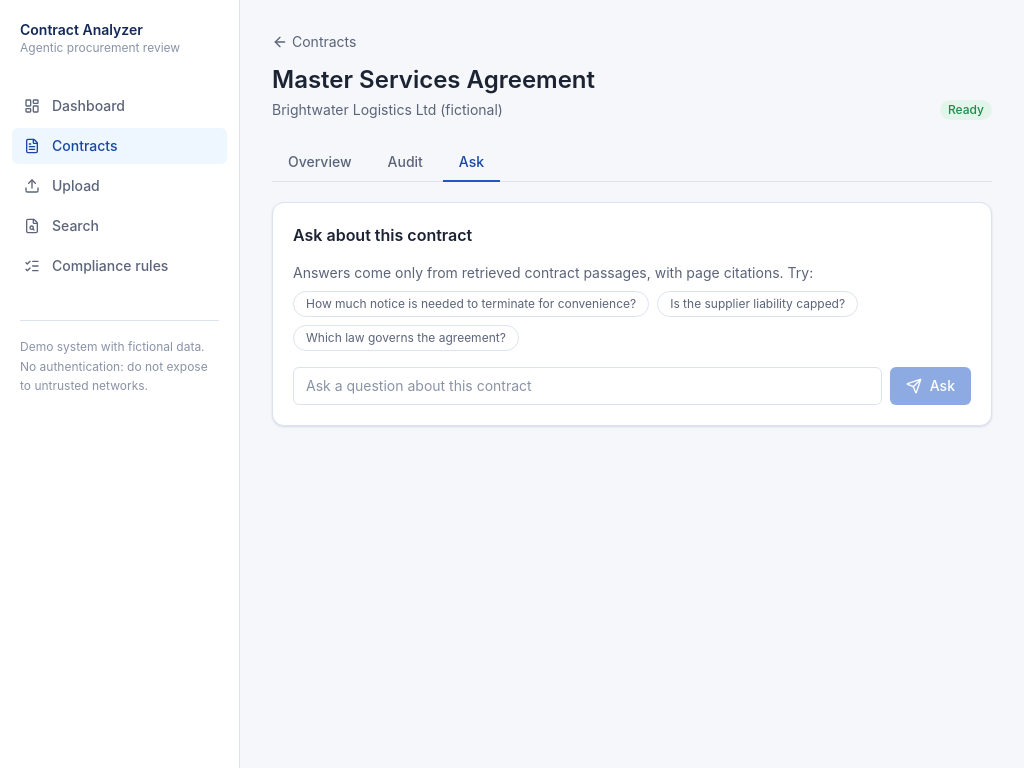
Scenario: Ask tab › shows a clear warning when the answer is not grounded
The image size is (1024, 768).
Step 1. Type "What colour is the logo?" into the field labelled "question" → (587, 386), box x1=293 y1=367 x2=882 y2=405
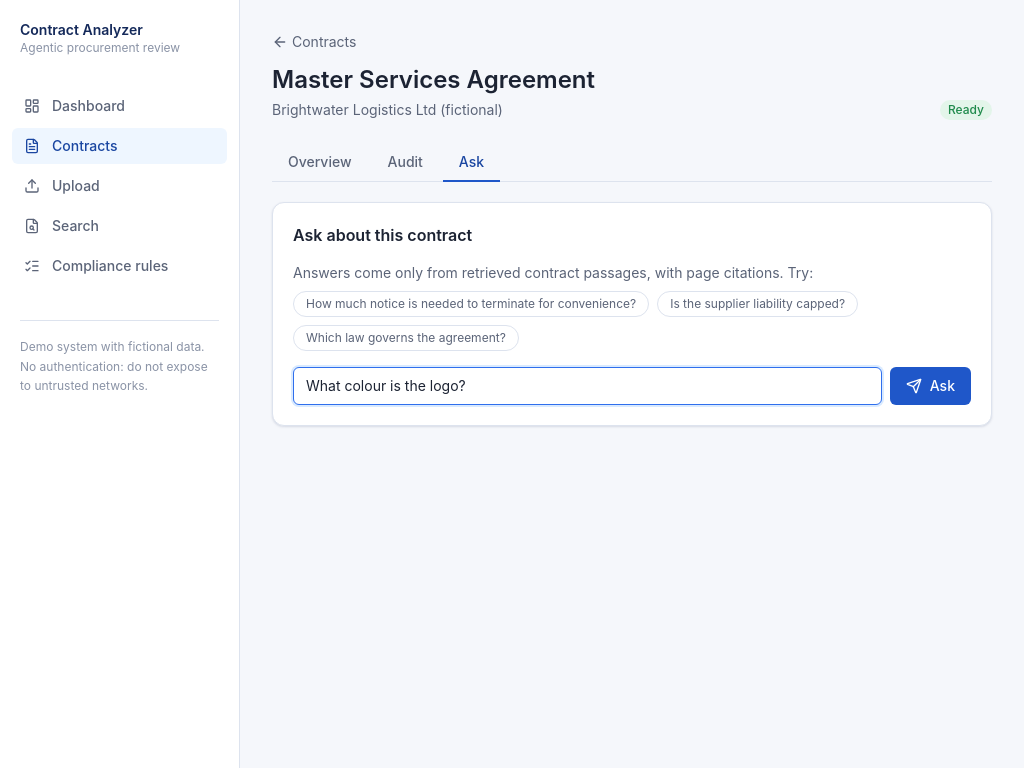
Step 2. Click the button "Ask" → (930, 386), box x1=890 y1=367 x2=971 y2=405
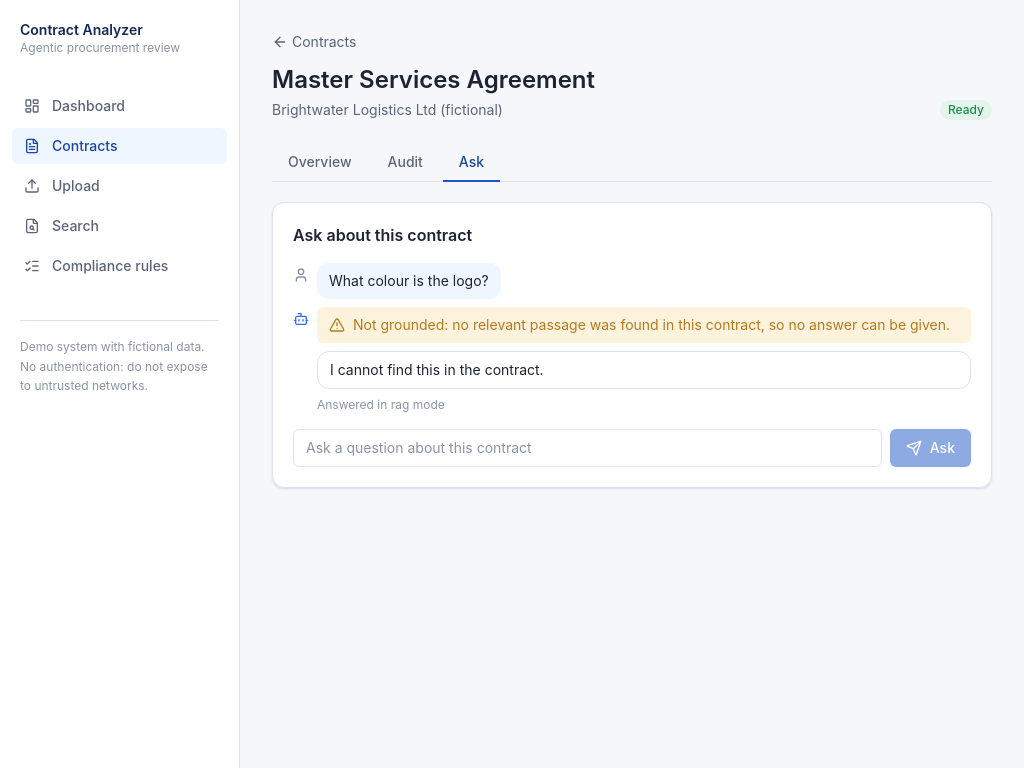
Expected: the text "Not grounded: no relevant passage was found" is shown, x1=353 y1=316 x2=950 y2=333
Expected: the text "I cannot find this in the contract." is shown, x1=317 y1=351 x2=971 y2=389
Expected: the text labelled "citations" is gone
